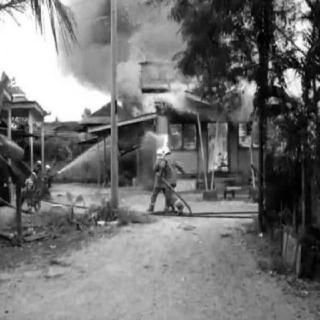Fire: (170, 120, 198, 151)
